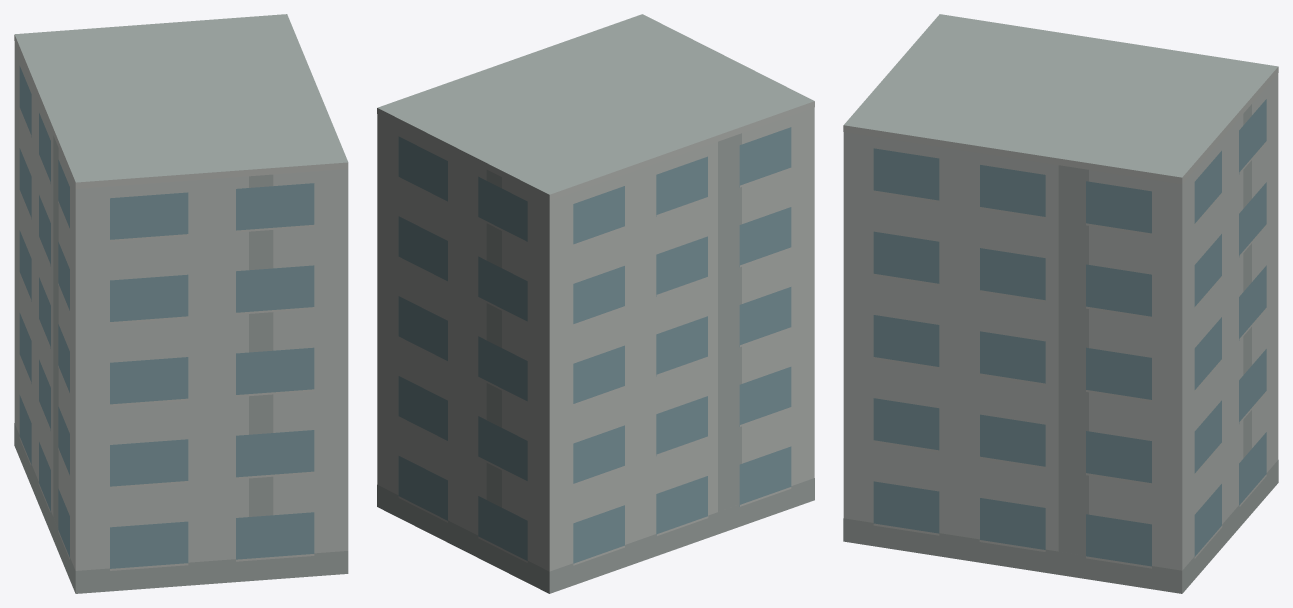
Rendered from residential-059d02c2-425c-4a62-b29e-15520a97aef0.glb.
3 renders of one model, left to right at view 1: azimuth 30°, elevation 25°; view 2: azimuth 150°, elevation 25°; view 3: azimuth 270°, elevation 25°, orthographic. The views are drawn at different scales.
Visible parts, largest first — view 1: residential-059d02c2-425c-4a62-b29e-15520a97aef0.tmp; view 2: residential-059d02c2-425c-4a62-b29e-15520a97aef0.tmp; view 3: residential-059d02c2-425c-4a62-b29e-15520a97aef0.tmp.
Part boxes in pixels (x1,y1,x2,y2): residential-059d02c2-425c-4a62-b29e-15520a97aef0.tmp: (14, 14, 348, 593); residential-059d02c2-425c-4a62-b29e-15520a97aef0.tmp: (377, 14, 814, 593); residential-059d02c2-425c-4a62-b29e-15520a97aef0.tmp: (843, 14, 1278, 593).
Size of the model in its own units: 12.86 by 15.25 by 14.45.
